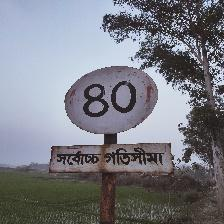Speed-limit: (52, 64, 168, 171)
